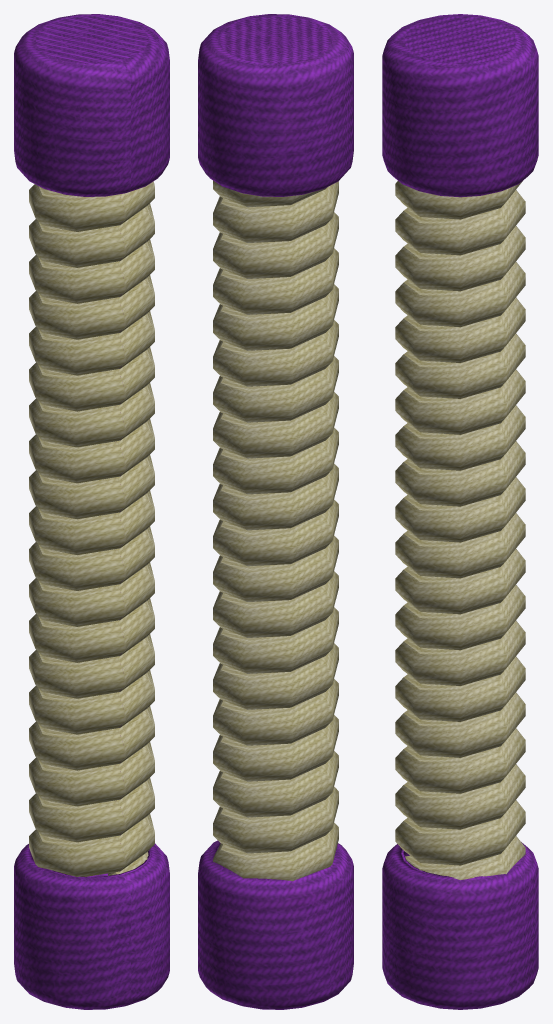
File: ML_tiragraffi.fbx
The picture shows the model from 3 angles, left to right: view 1: azimuth 30°, elevation 25°; view 2: azimuth 150°, elevation 25°; view 3: azimuth 270°, elevation 25°; orthographic projection.
Visible parts, largest first — view 1: Circle, Cylinder; view 2: Circle, Cylinder; view 3: Circle, Cylinder.
Boxes of the visible parts, <box> form: Circle: <box>29,181,154,876</box>; Cylinder: <box>14,14,169,1009</box>; Circle: <box>213,180,338,881</box>; Cylinder: <box>198,14,353,1009</box>; Circle: <box>395,181,525,880</box>; Cylinder: <box>382,14,538,1009</box>.
Bounding box in the file's own units: 113 × 750 × 113.
